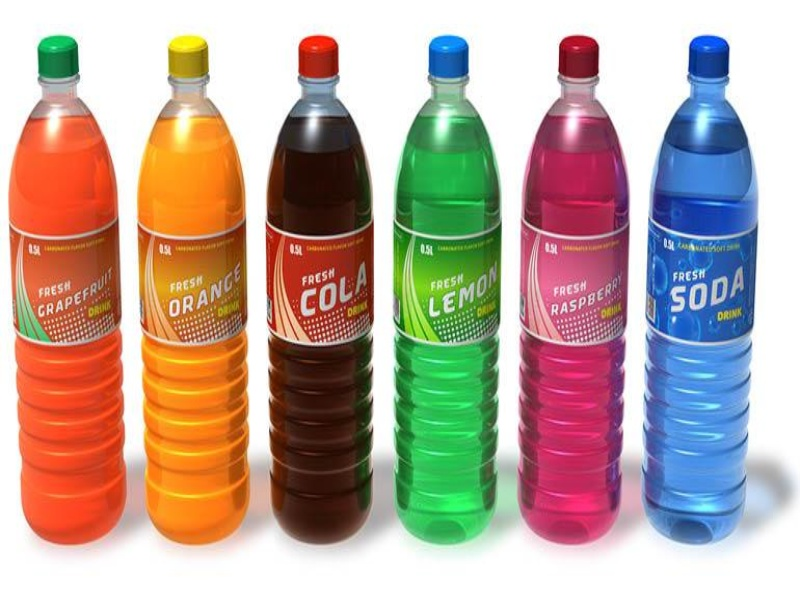Plastic bottle: (635, 22, 763, 588), (262, 37, 396, 571), (129, 35, 264, 551), (501, 24, 629, 565), (384, 24, 515, 533), (1, 33, 121, 558)
